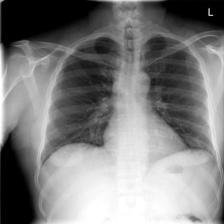normal: (38, 32, 219, 173)
